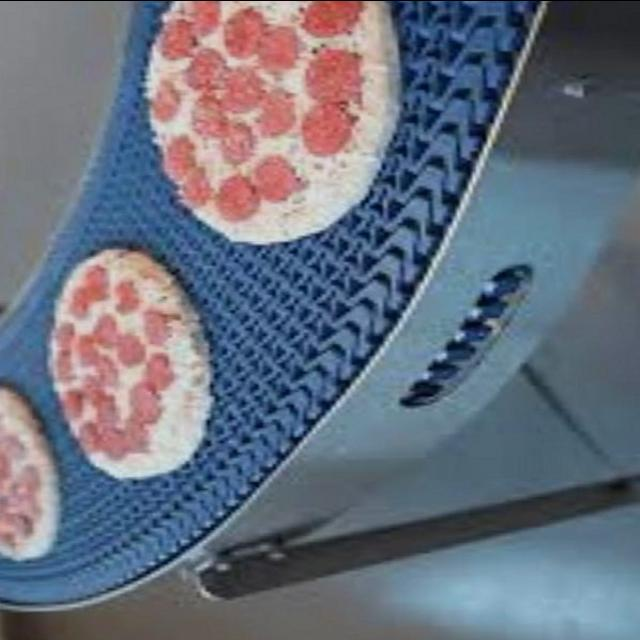food: (133, 0, 430, 247), (39, 245, 212, 485)
